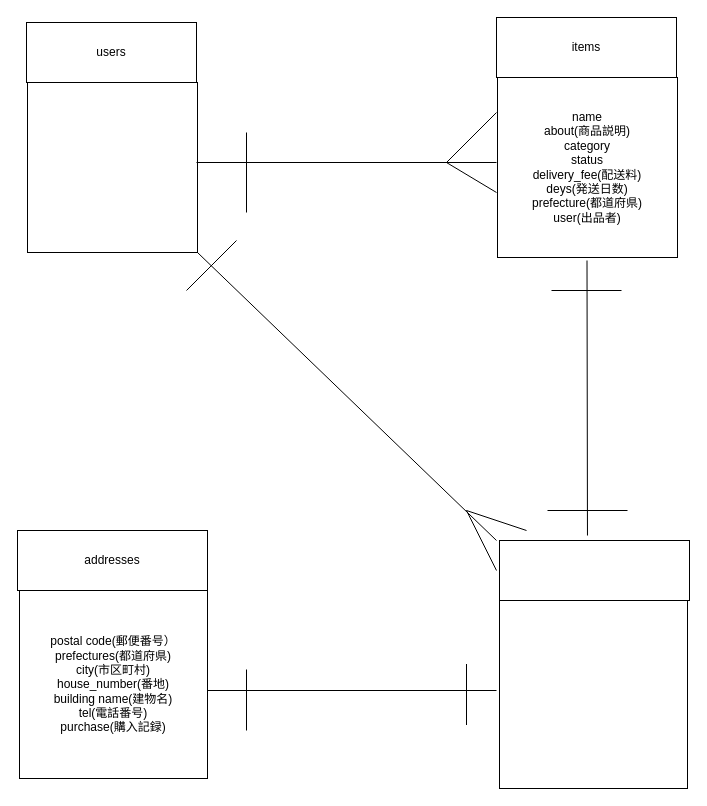
Image size: 707x806. Some labels were removed from this diagram. The box of each missing label's shape, as (x1, y1, x2, y2) in pixels:
nicname email first name last name last name_alias first name_alias birthday: (26, 82, 198, 252)
purchases(購入記録): (498, 540, 690, 600)
user item: (498, 600, 688, 788)
